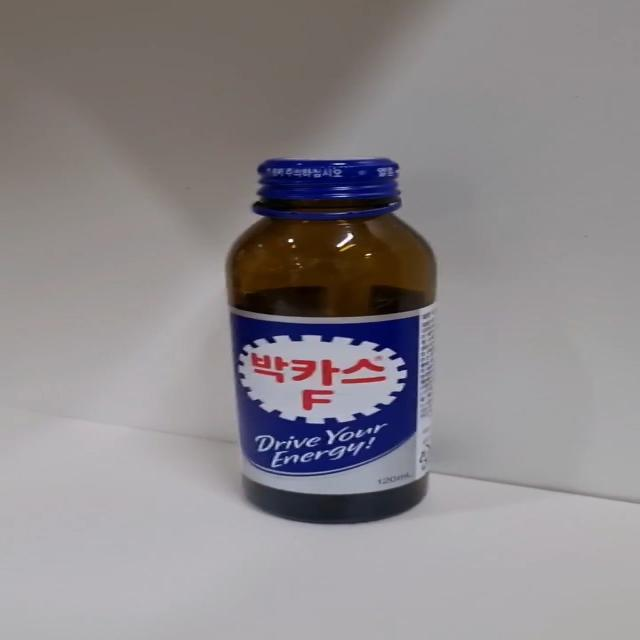Glass: (223, 158, 437, 524)
